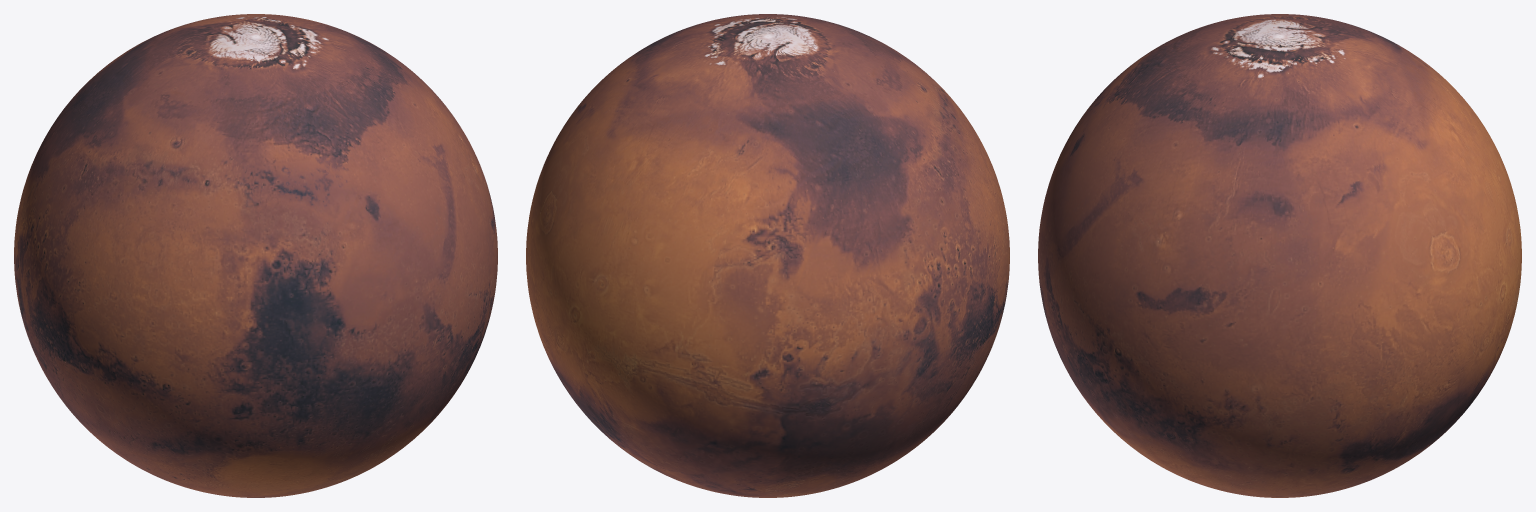
3 views of the same model, side by side, from view 1: azimuth 30°, elevation 25°; view 2: azimuth 150°, elevation 25°; view 3: azimuth 270°, elevation 25° (orthographic).
Visible parts, largest first — view 1: mars; view 2: mars; view 3: mars.
Part boxes in pixels (x1,y1,x2,y2): mars: (14, 14, 497, 497); mars: (526, 14, 1009, 497); mars: (1038, 14, 1521, 497).
Size of the model in its own units: 0.0649 by 0.0649 by 0.0649.
Materials: 2 (1 with a texture image).
